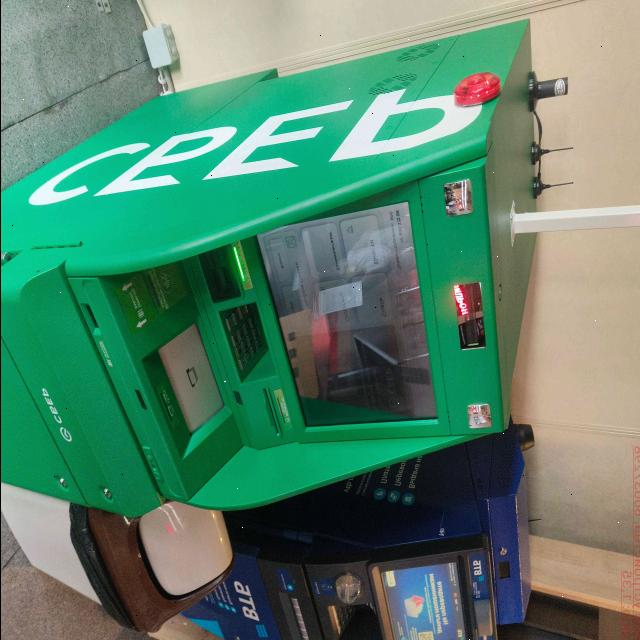bank: (0, 23, 550, 522)
